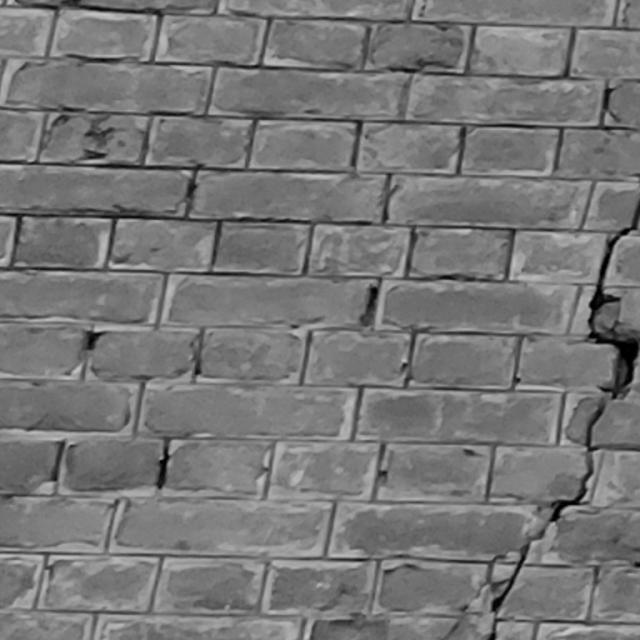crack: (446, 201, 639, 640)
